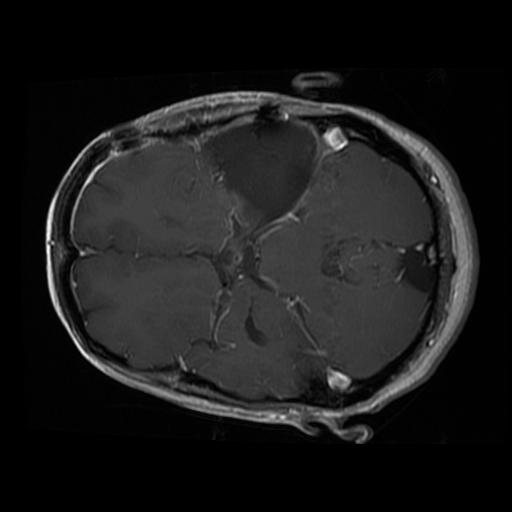glioma: (203, 121, 319, 223)
